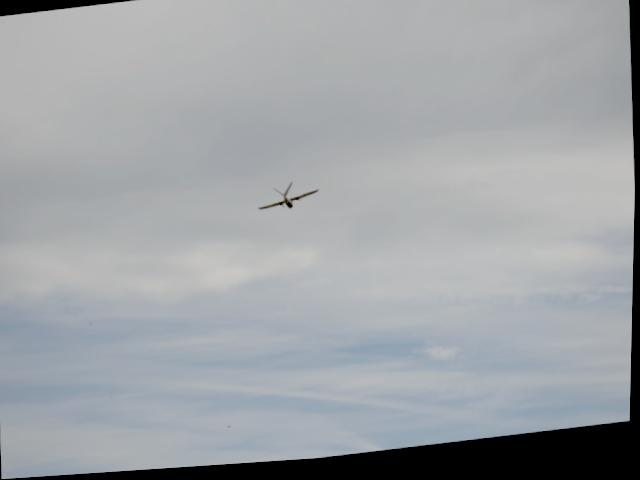plane: (257, 183, 321, 219)
